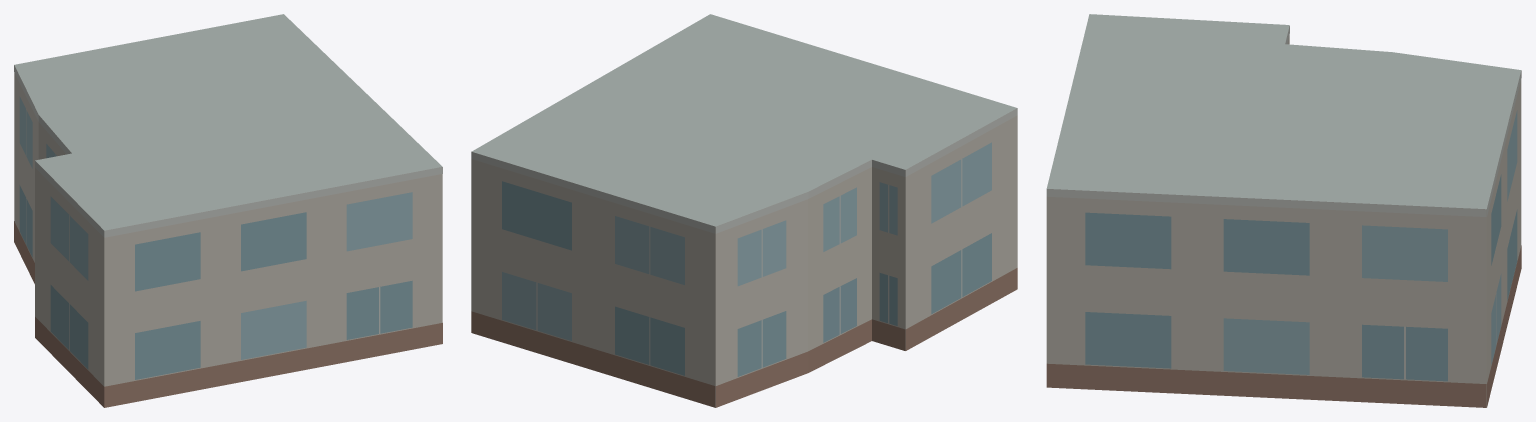
File: survey-upis-33038813.glb
3 renders of one model, left to right at view 1: azimuth 30°, elevation 25°; view 2: azimuth 150°, elevation 25°; view 3: azimuth 270°, elevation 25°, orthographic. The views are drawn at different scales.
Visible parts, largest first — view 1: survey-upis-33038813.tmp; view 2: survey-upis-33038813.tmp; view 3: survey-upis-33038813.tmp.
Boxes of the visible parts, x1,y1,x2,y2 form: survey-upis-33038813.tmp: (14, 14, 442, 407); survey-upis-33038813.tmp: (471, 14, 1017, 407); survey-upis-33038813.tmp: (1046, 14, 1521, 407).
Bounding box in the file's own units: 12.86 × 6.1 × 13.22.
